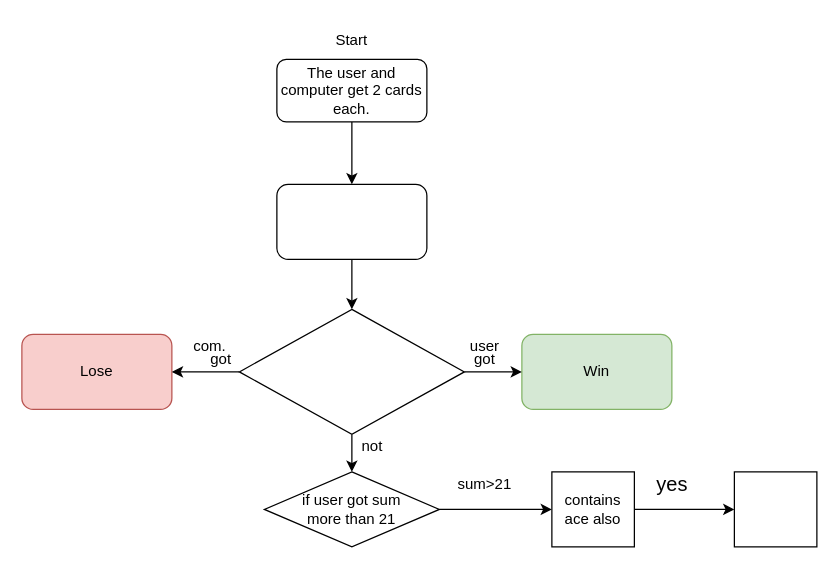
Image size: 839x569. Some labels were removed from this diagram. The shapes that lost their labels are listed below. From the top down, each one's centre as x and y in pixels, then its label:
At pixel 351 221: "Add the user card and computer card. Note there sum.".
At pixel 351 371: "if user or computer get blackjack card? (i.e,. 10 + ace)".
At pixel 775 509: "check new sum by ace = 1".
